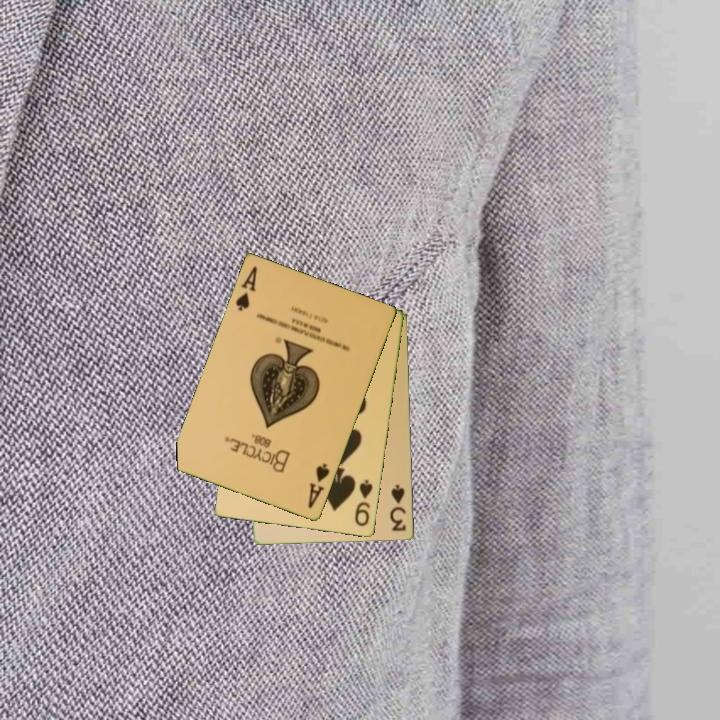3s: (387, 481, 409, 534)
9s: (351, 476, 376, 529)
As: (305, 460, 333, 512), (232, 263, 260, 314)
